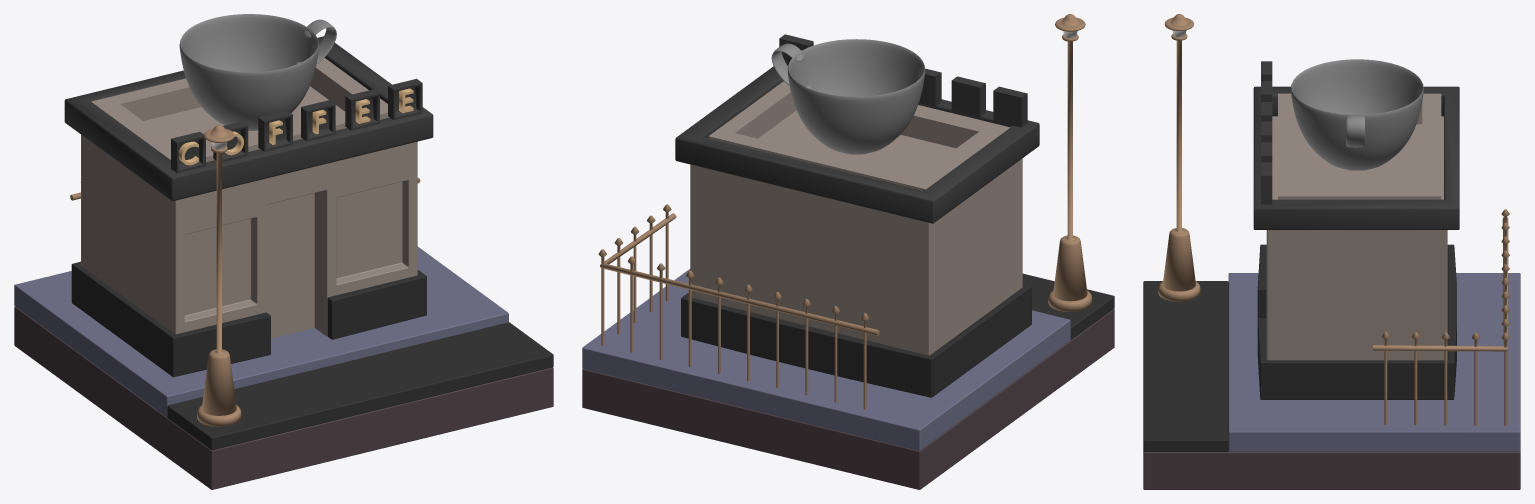
File: coffeshop.fbx
3 renders of one model, left to right at view 1: azimuth 30°, elevation 25°; view 2: azimuth 150°, elevation 25°; view 3: azimuth 270°, elevation 25°, orthographic. The views are drawn at different scales.
Visible parts, largest first — view 1: Plane.003, Plane, Plane.001, Plane.002, Cube.009, Plane.018, Circle, Cube.002, Circle.002, Plane.017, Cube.006, Cube.005 (+5 smaller); view 2: Plane.003, Plane.002, Plane, Plane.018, Cube.009, Circle, Cube.002, Plane.010, Circle.002, Plane.009, Plane.001, Cube.007 (+3 smaller); view 3: Plane.003, Plane.002, Plane, Plane.001, Circle, Plane.018, Cube.009, Cube.002, Circle.002, Plane.010, Plane.009, Circle.003 (+1 smaller).
Boxes of the visible parts, x1=… form: Plane.003: x1=81, y1=86, x2=417, y2=336; Plane: x1=14, y1=306, x2=553, y2=489; Plane.001: x1=167, y1=322, x2=553, y2=450; Plane.002: x1=14, y1=246, x2=508, y2=417; Cube.009: x1=64, y1=36, x2=433, y2=201; Plane.018: x1=71, y1=261, x2=426, y2=377; Circle: x1=179, y1=14, x2=318, y2=130; Cube.002: x1=91, y1=58, x2=389, y2=162; Circle.002: x1=197, y1=125, x2=241, y2=426; Plane.017: x1=177, y1=275, x2=416, y2=338; Cube.006: x1=258, y1=110, x2=292, y2=151; Cube.005: x1=301, y1=100, x2=335, y2=141; Plane.003: x1=690, y1=110, x2=1022, y2=355; Plane.002: x1=582, y1=269, x2=1070, y2=450; Plane: x1=582, y1=309, x2=1114, y2=489; Plane.018: x1=681, y1=284, x2=1031, y2=397; Cube.009: x1=675, y1=66, x2=1039, y2=223; Circle: x1=787, y1=39, x2=925, y2=154; Cube.002: x1=708, y1=81, x2=1010, y2=190; Plane.010: x1=598, y1=204, x2=869, y2=409; Circle.002: x1=1048, y1=14, x2=1092, y2=311; Plane.009: x1=600, y1=213, x2=879, y2=335; Plane.001: x1=1022, y1=273, x2=1114, y2=339; Cube.007: x1=951, y1=76, x2=985, y2=117; Plane.003: x1=1266, y1=116, x2=1447, y2=360; Plane.002: x1=1228, y1=273, x2=1520, y2=451; Plane: x1=1143, y1=451, x2=1520, y2=489; Plane.001: x1=1143, y1=281, x2=1228, y2=451; Circle: x1=1291, y1=59, x2=1423, y2=170; Plane.018: x1=1257, y1=244, x2=1456, y2=399; Cube.009: x1=1253, y1=86, x2=1459, y2=229; Cube.002: x1=1278, y1=93, x2=1441, y2=199; Circle.002: x1=1158, y1=14, x2=1200, y2=301; Plane.010: x1=1381, y1=209, x2=1509, y2=425; Plane.009: x1=1373, y1=217, x2=1508, y2=351; Circle.003: x1=1346, y1=115, x2=1365, y2=147.
Bounding box in the file's own units: 800 × 869 × 800.
